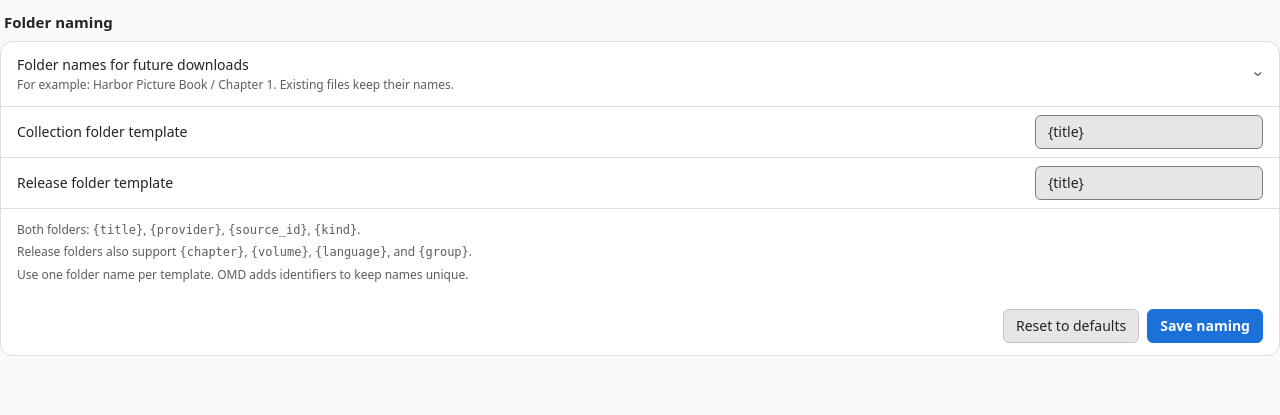
Test: keeps the naming form open during retry and after a successful save
The width and height of the screenshot is (1280, 415).
Click the button "Save naming". click: (1205, 326)
box: [1147,309,1263,343]
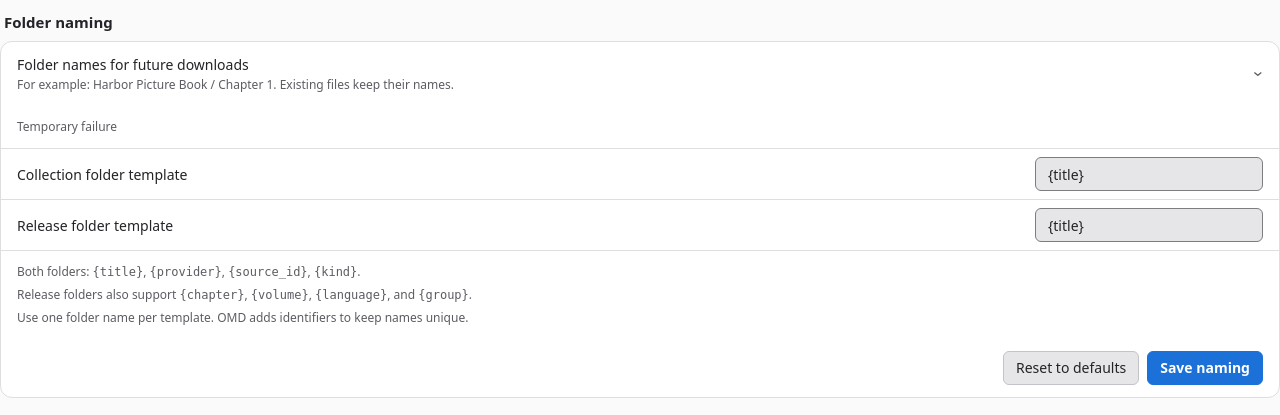
expect the text "Temporary failure" is shown: met, box [17,118,117,135]
Click the button "Save naming". click: (1205, 368)
box: [1147,351,1263,385]
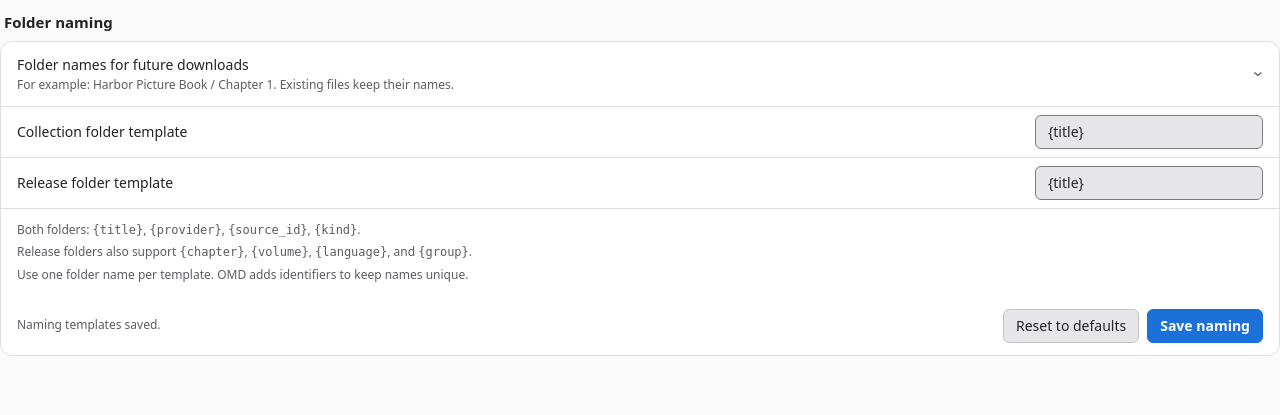
expect the text "Naming templates saved." is shown: met, box [17,316,160,335]
